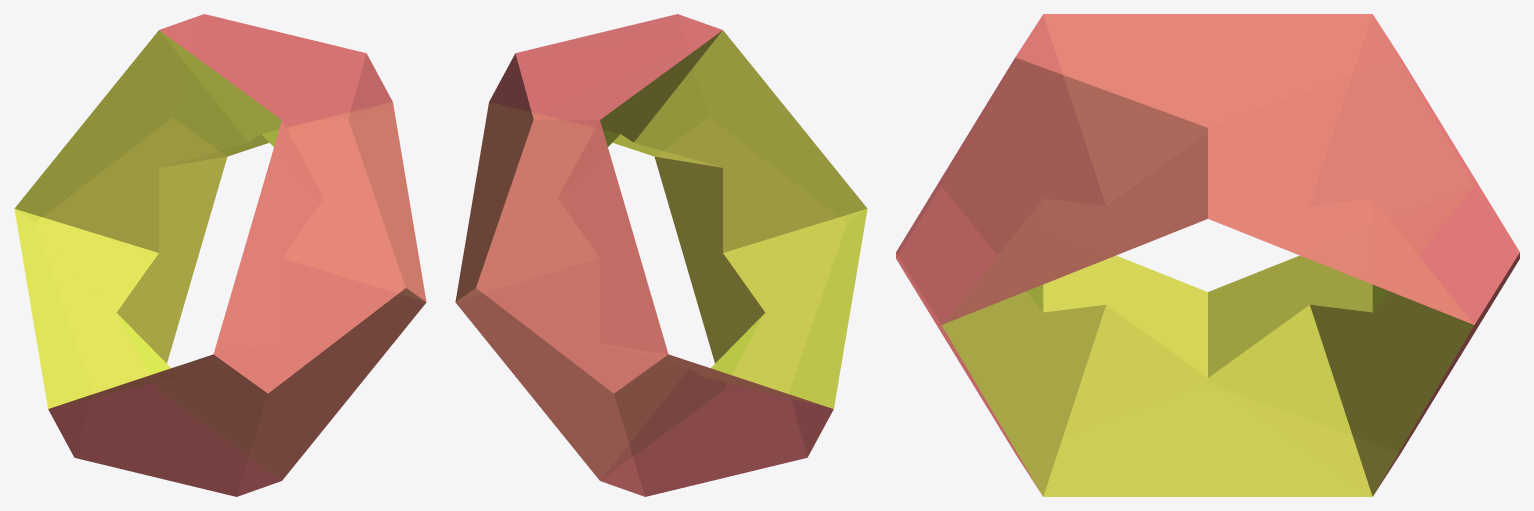
File: PentagonalTrapezohedronToroid.obj
The picture shows the model from 3 angles, left to right: view 1: azimuth 30°, elevation 25°; view 2: azimuth 150°, elevation 25°; view 3: azimuth 270°, elevation 25°; orthographic projection. The views are drawn at different scales.
Size of the model in its own units: 1.62 by 1.62 by 1.89.
